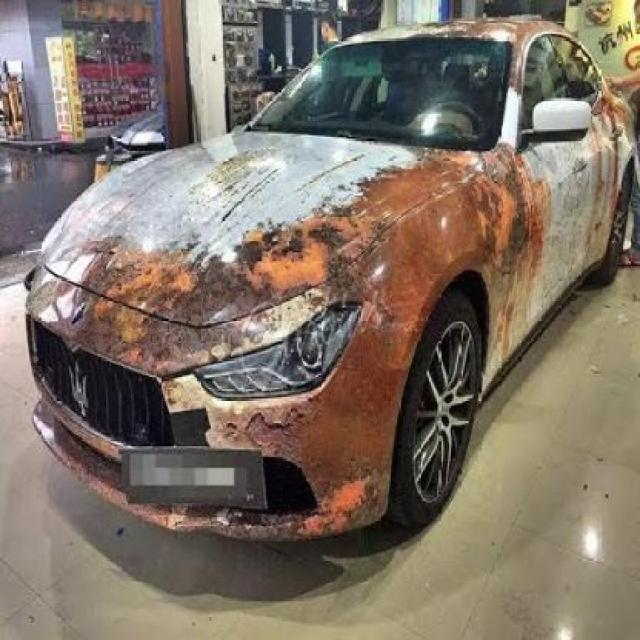corrosion: (24, 12, 640, 543)
